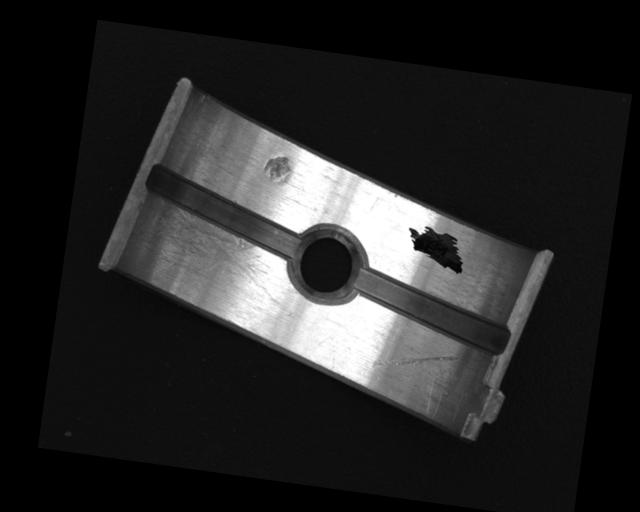blot: (401, 222, 468, 276)
bruise: (260, 153, 295, 189)
gap: (138, 164, 308, 261), (345, 266, 514, 356)
hole: (286, 225, 368, 305)
nick: (370, 342, 460, 380)
scratch: (127, 201, 290, 306)
